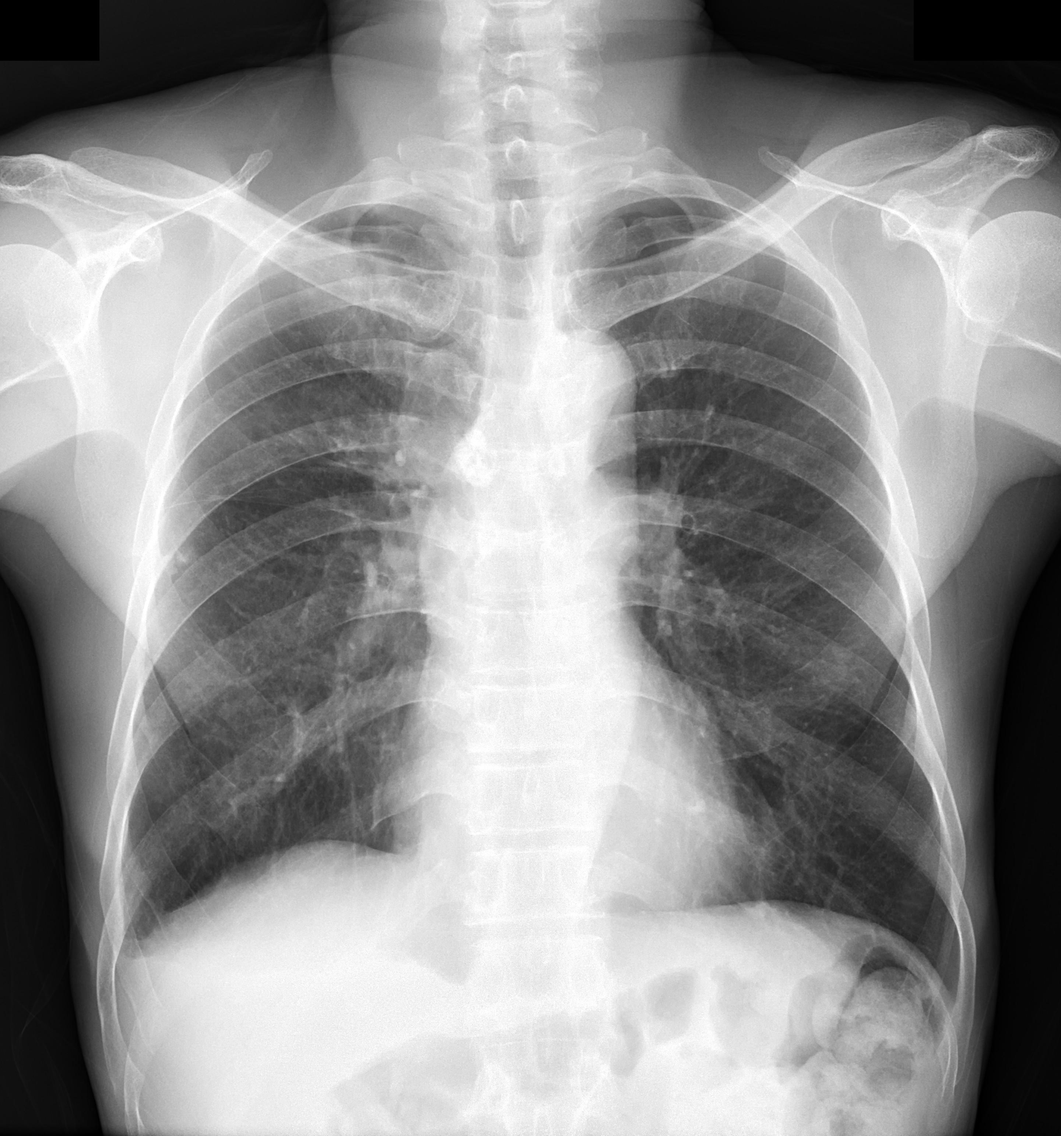Pleural thickening: (105, 894, 183, 976)
Pulmonary fibrosis: (328, 235, 410, 376)
